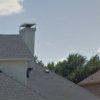Chimney: (17, 16, 55, 71)
